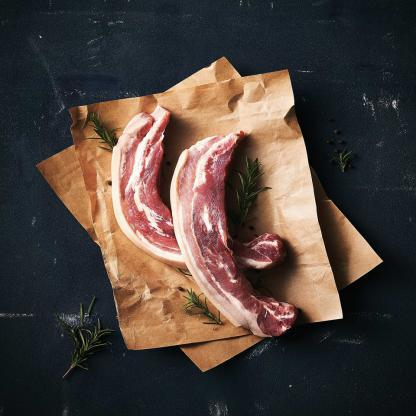pork: (118, 110, 312, 340)
